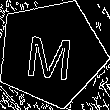M_N: (25, 25, 77, 81)
